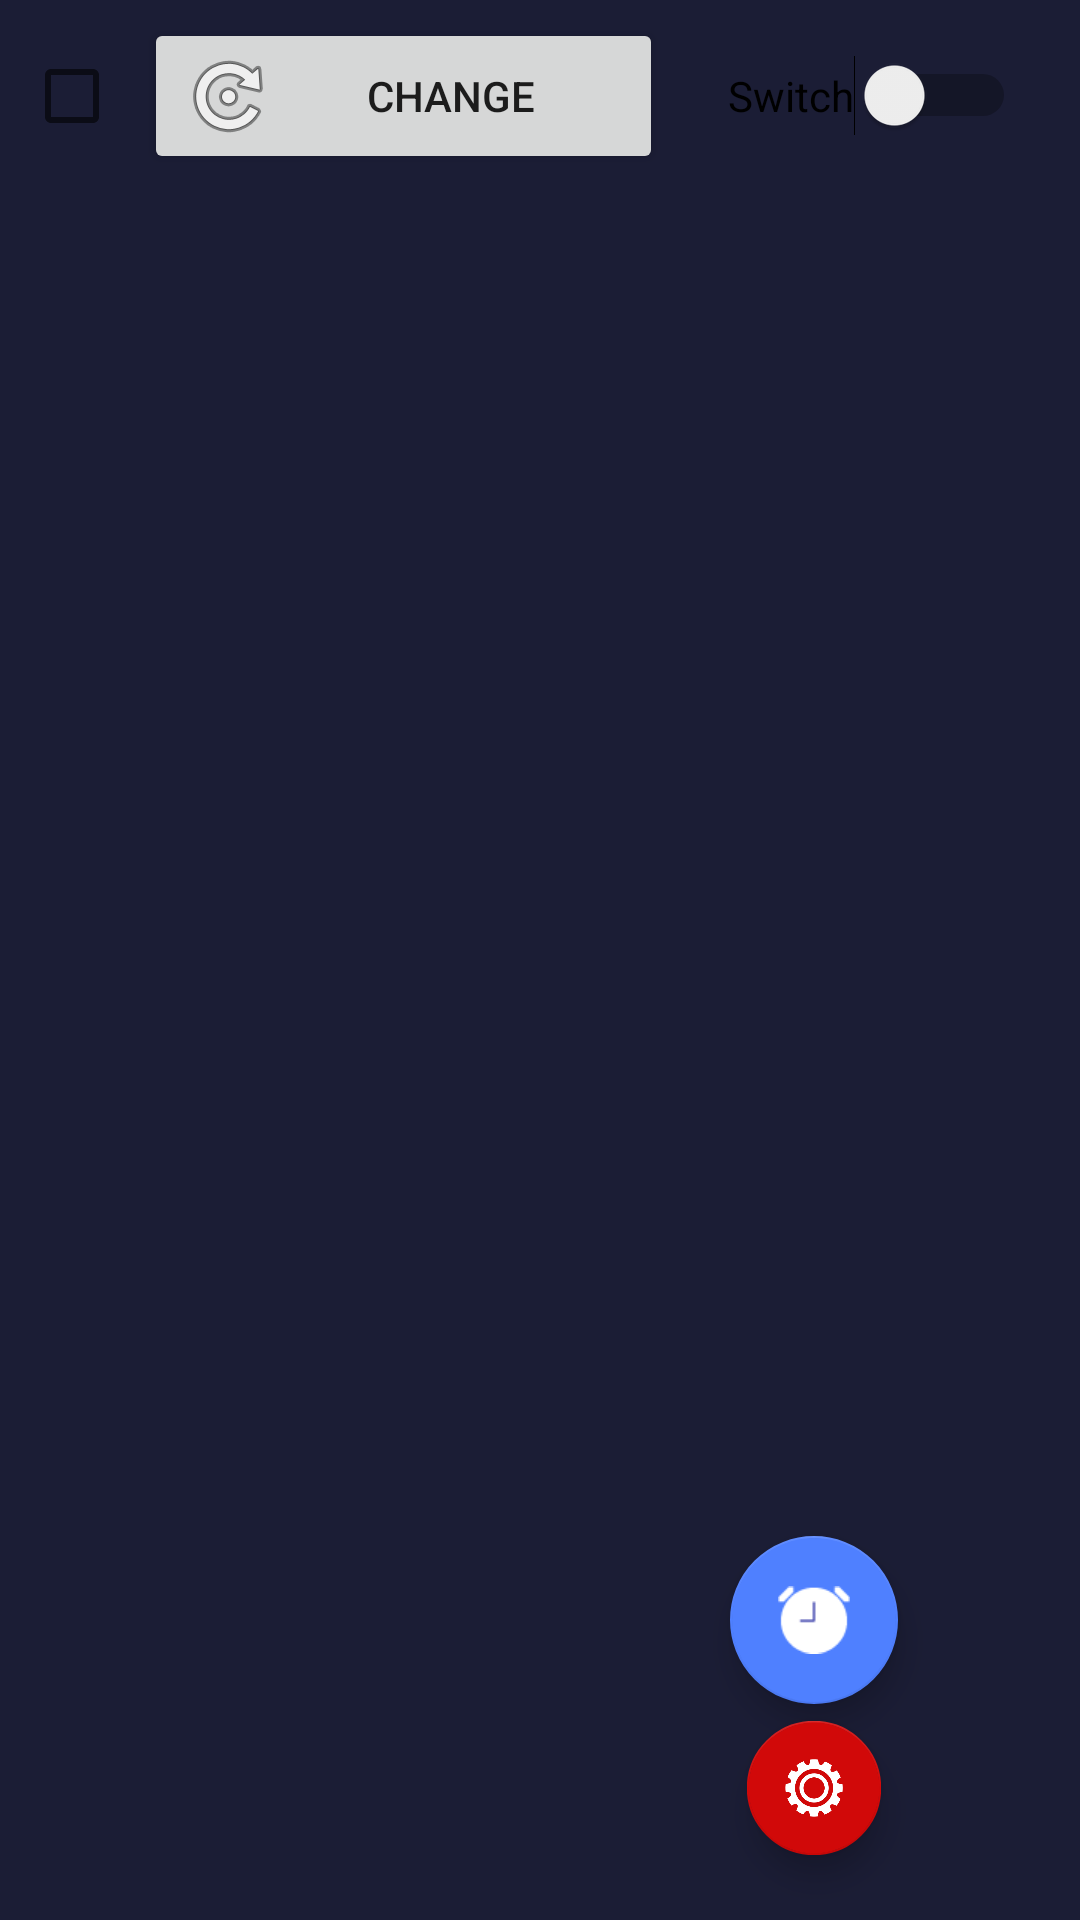

Named icons in this screenshot (1080 x 1920) and their centers, (x=x, y=y):
alarm: (x=814, y=1620)
